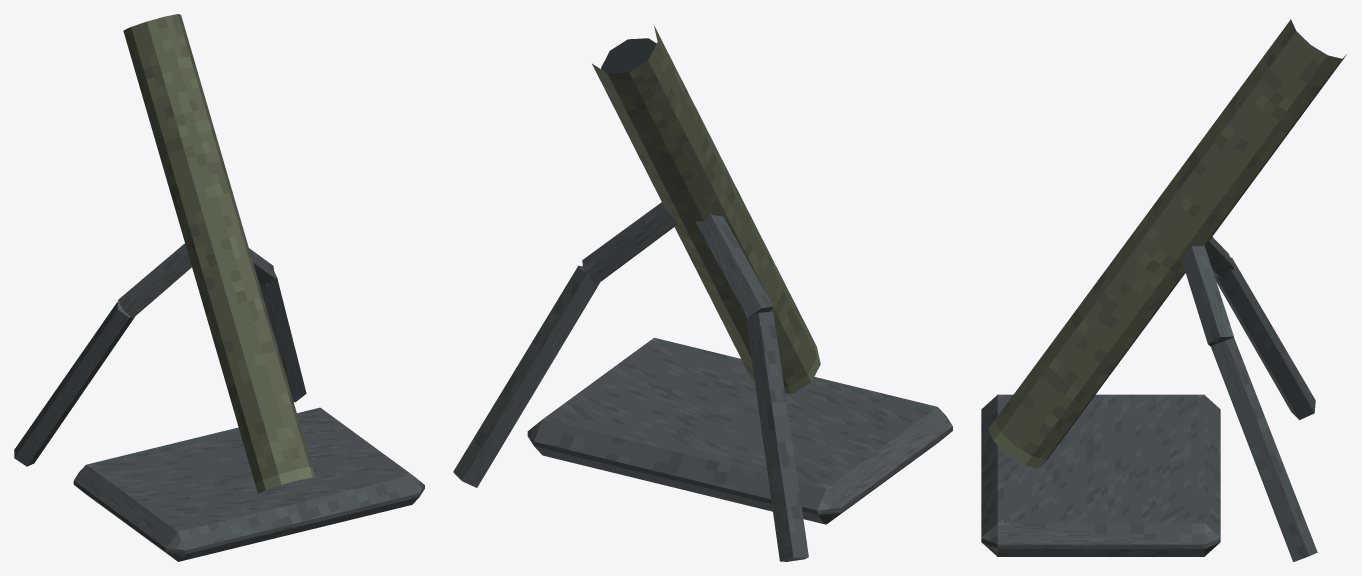
Rendered from f_m224_mortar.glb.
3 views of the same model, side by side, from view 1: azimuth 30°, elevation 25°; view 2: azimuth 150°, elevation 25°; view 3: azimuth 270°, elevation 25° (orthographic). The views are drawn at different scales.
Visible parts, largest first — view 1: block_olive-tube, block_inert-display-base, block_display-brace-1 (×2), block_display-brace-2 (×2); view 2: block_inert-display-base, block_olive-tube, block_display-brace-1 (×2), block_display-brace-2 (×2), block_dark-recess; view 3: block_inert-display-base, block_olive-tube, block_display-brace-1 (×2), block_display-brace-2 (×2).
Part boxes in pixels (x1,y1,x2,y2): block_olive-tube: (123, 14, 315, 493); block_inert-display-base: (73, 407, 424, 561); block_display-brace-1 (×2): (14, 272, 306, 466); block_display-brace-2 (×2): (118, 243, 275, 318); block_inert-display-base: (527, 337, 952, 524); block_olive-tube: (592, 25, 820, 393); block_display-brace-1 (×2): (453, 265, 808, 561); block_display-brace-2 (×2): (582, 202, 772, 318); block_dark-recess: (601, 38, 656, 73); block_inert-display-base: (981, 394, 1220, 556); block_olive-tube: (988, 19, 1346, 468); block_display-brace-1 (×2): (1210, 257, 1317, 561); block_display-brace-2 (×2): (1181, 237, 1234, 346).
Bounding box in the file's own units: 0.6294 × 0.8732 × 0.6122.
Materials: 1 (1 with a texture image).
